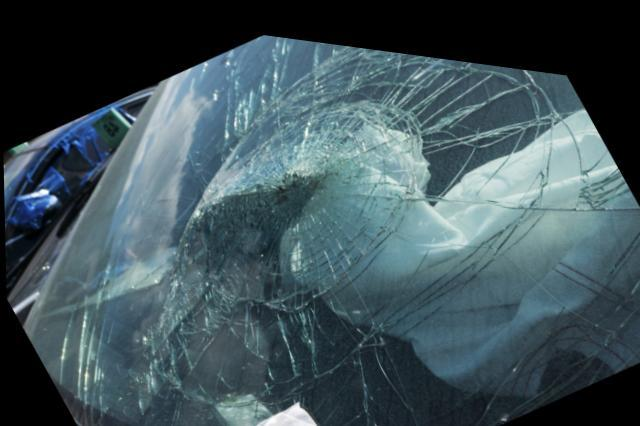glass shatter: (23, 28, 640, 426)
